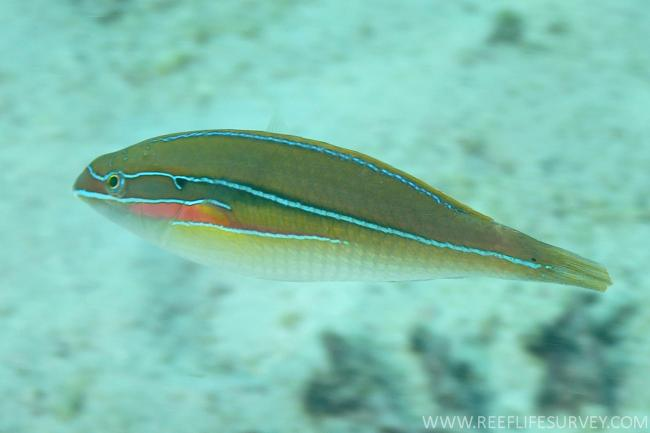fish: (71, 128, 614, 296)
